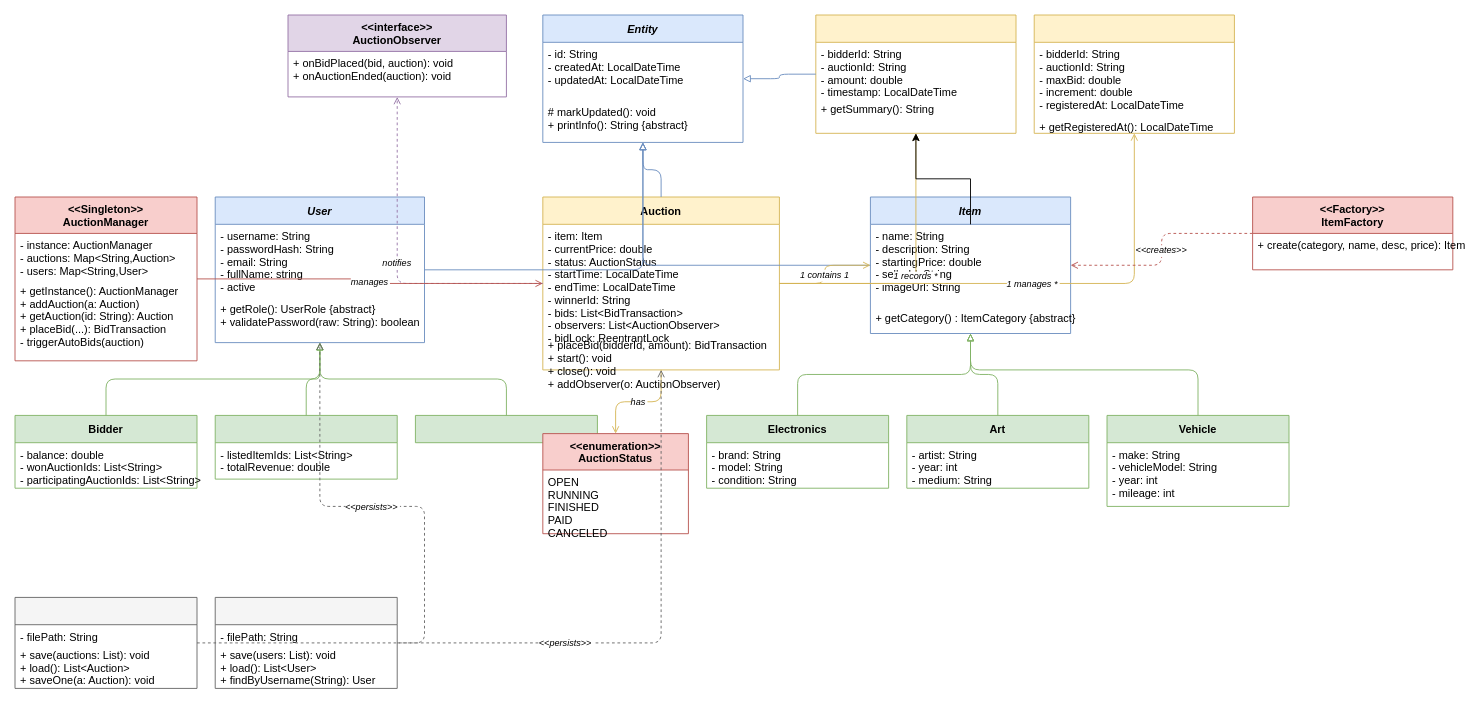
Some shapes in this 1481 by 703 pixel diagram are drawn without their labels. Here are the shapes that lost their labels. From the top down, the box of each, then its label:
(815, 14, 1016, 133): BidTransaction
(1033, 14, 1234, 133): AutoBid
(214, 415, 397, 479): Seller
(415, 415, 597, 443): Admin
(14, 597, 197, 688): AuctionDAO
(214, 597, 397, 688): UserDAO
